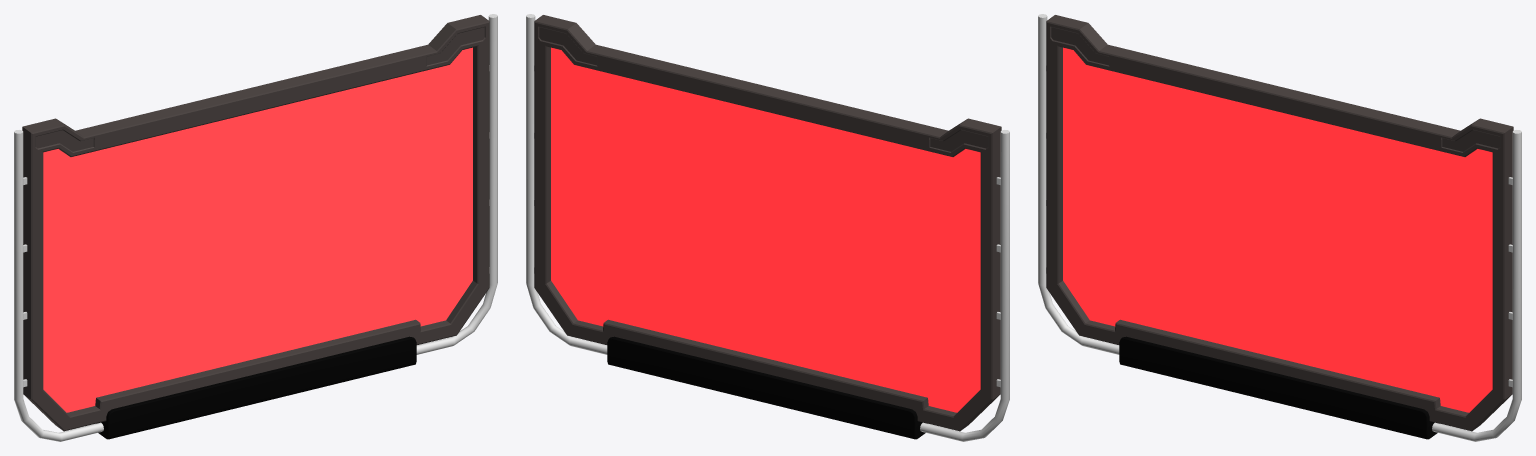
The model's file is Obstacle_haut.fbx.
The picture shows the model from 3 angles, left to right: view 1: azimuth 30°, elevation 25°; view 2: azimuth 150°, elevation 25°; view 3: azimuth 330°, elevation 25°; orthographic projection.
Visible parts, largest first — view 1: Barrier Top; view 2: Barrier Top; view 3: Barrier Top.
Part boxes in pixels (x1=…): Barrier Top: x1=14, y1=14, x2=497, y2=441; Barrier Top: x1=526, y1=14, x2=1009, y2=441; Barrier Top: x1=1038, y1=14, x2=1521, y2=441.
Size of the model in its own units: 297 by 191 by 14.53.
